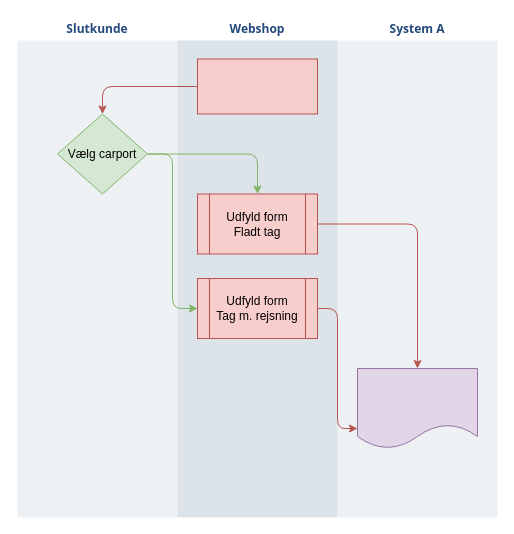
Image size: 514x534. Some labels were removed from this diagram. The shapes that lost their labels are listed below. From the top down, each one's box as (x1, y1, x2, y2) in pixels, then its label:
(196, 58, 318, 114): Custom carport
(356, 368, 478, 448): Ordreforespørgsel
